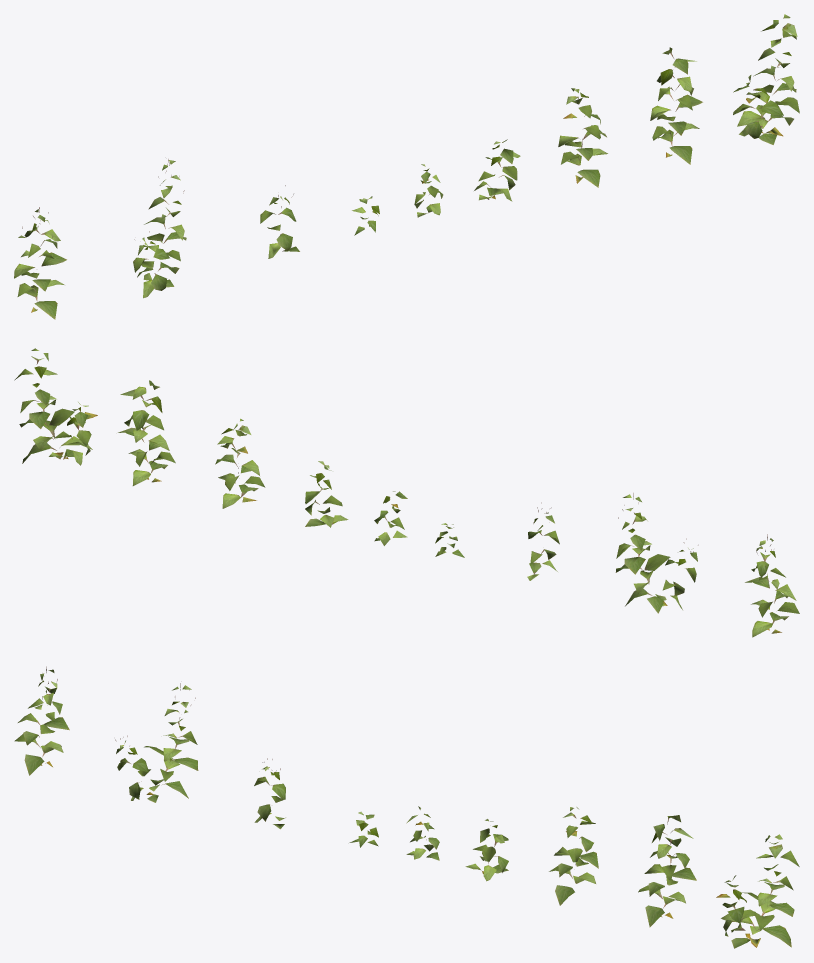
Rendered from shrub_01.glb.
The picture shows the model from 3 angles, top to bottom: view 1: azimuth 30°, elevation 25°; view 2: azimuth 150°, elevation 25°; view 3: azimuth 330°, elevation 25°; orthographic projection. The views are drawn at different scales.
Parts seen in each view (by area): view 1: shrub_01_a; view 2: shrub_01_a; view 3: shrub_01_a.
Part boxes in pixels (box(x1,y1,x2,y2)): shrub_01_a: box(14, 14, 799, 319); shrub_01_a: box(14, 348, 799, 637); shrub_01_a: box(14, 666, 799, 948).
Size of the model in its own units: 2.59 by 0.38 by 0.205.
Materials: 1 (1 with a texture image).
